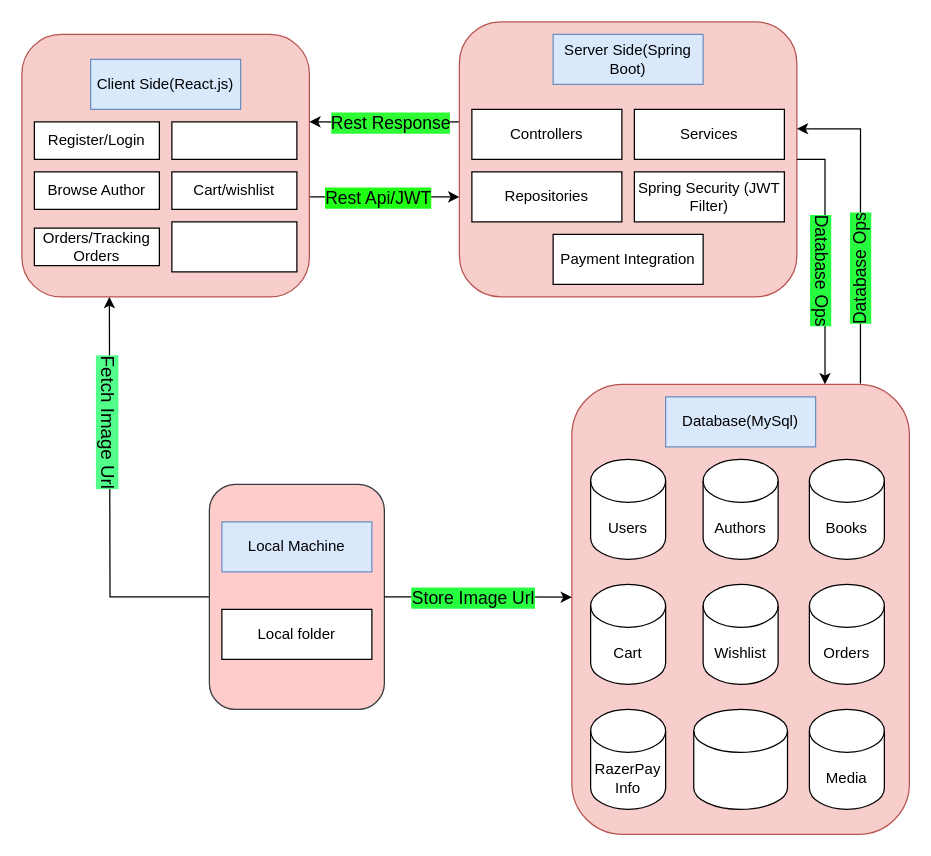
The diagram is 931 pixels wide and 856 high, and some of its shapes have lost their labels. The centre of each missing label's shape, as x and y in pixels:
Admin Dashboared: point (234, 246)
Browse Books: point (234, 140)
Return/ Replacement: point (740, 758)
